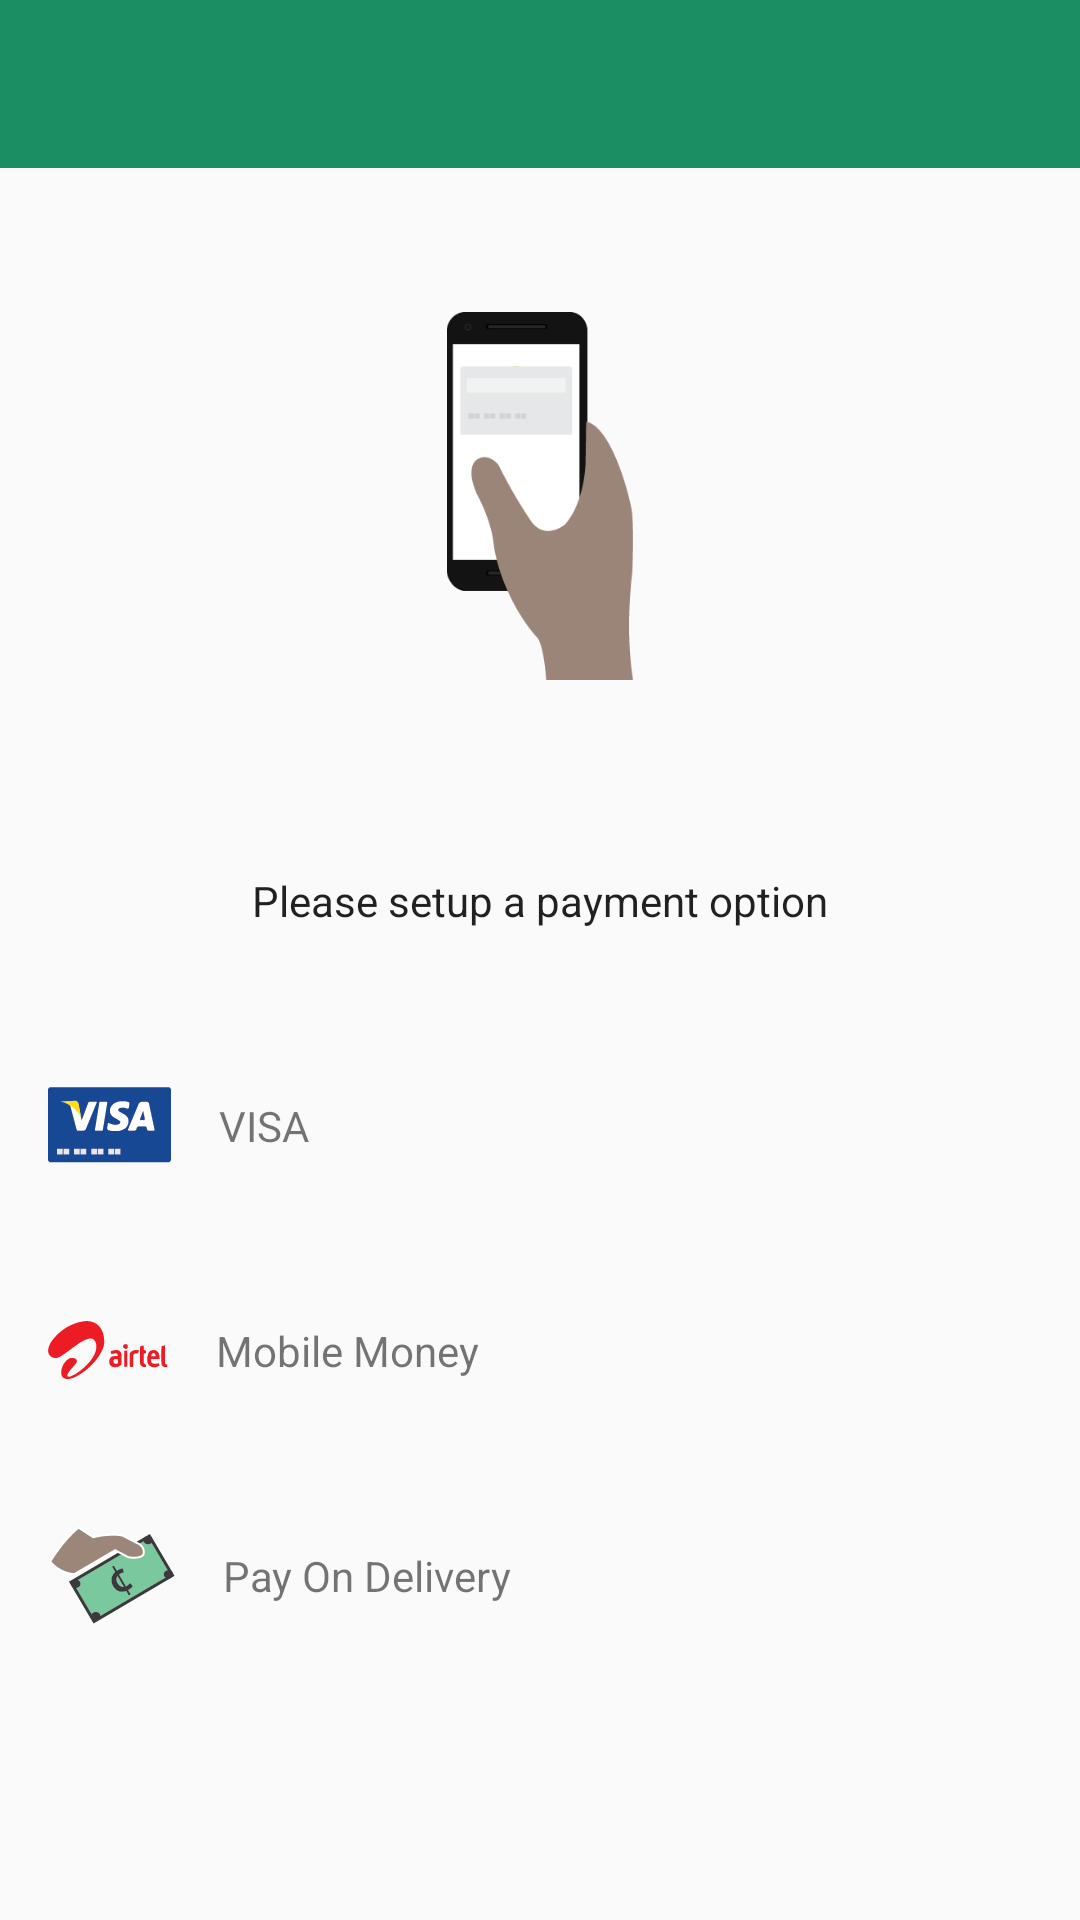

Screen size 1080 × 1920. Icon name, then its center in pixels as [x,y]:
cash: [113,1576]
